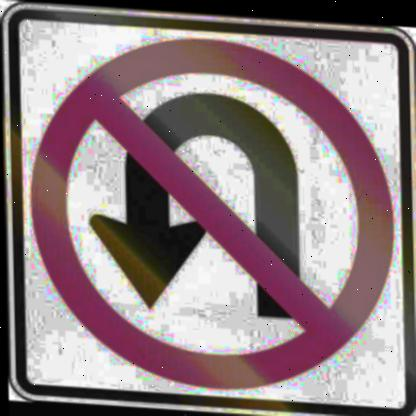No U-turn: (27, 24, 398, 395)
